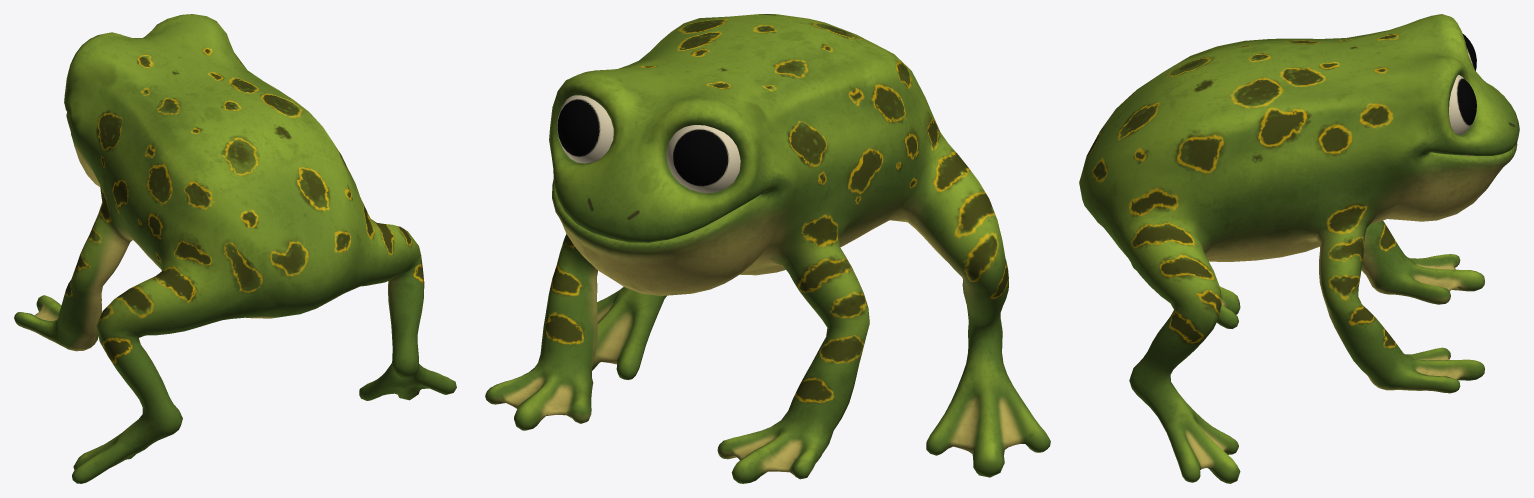
File: frog.fbx
3 renders of one model, left to right at view 1: azimuth 30°, elevation 25°; view 2: azimuth 150°, elevation 25°; view 3: azimuth 270°, elevation 25°, orthographic. The views are drawn at different scales.
Visible parts, largest first — view 1: 青蛙; view 2: 青蛙; view 3: 青蛙.
Boxes of the visible parts, left/top/right/bottom form: 青蛙: left=14, top=14, right=456, bottom=483; 青蛙: left=485, top=14, right=1050, bottom=483; 青蛙: left=1079, top=14, right=1519, bottom=483.
Bounding box in the file's own units: 1614 × 1358 × 1514.
1 material, 1 textured.
